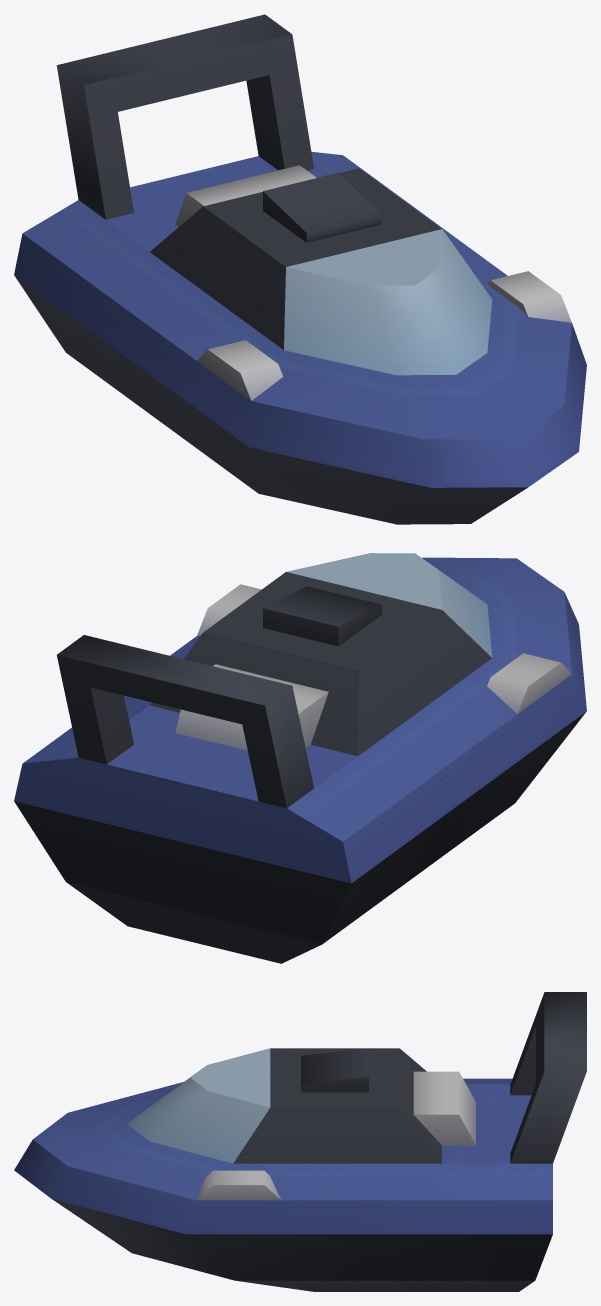
File: boat_speed_a.glb
3 views of the same model, one above another, from view 1: azimuth 30°, elevation 25°; view 2: azimuth 150°, elevation 25°; view 3: azimuth 270°, elevation 25° (orthographic). The views are drawn at different scales.
Visible parts, largest first — view 1: boat-speed-a; view 2: boat-speed-a; view 3: boat-speed-a.
Part boxes in pixels (<box>): boat-speed-a: <box>14,14,586,524</box>; boat-speed-a: <box>14,553,586,963</box>; boat-speed-a: <box>14,992,586,1291</box>.
Bounding box in the file's own units: 1.78 × 1.5 × 3.37.
Materials: 1 (1 with a texture image).
